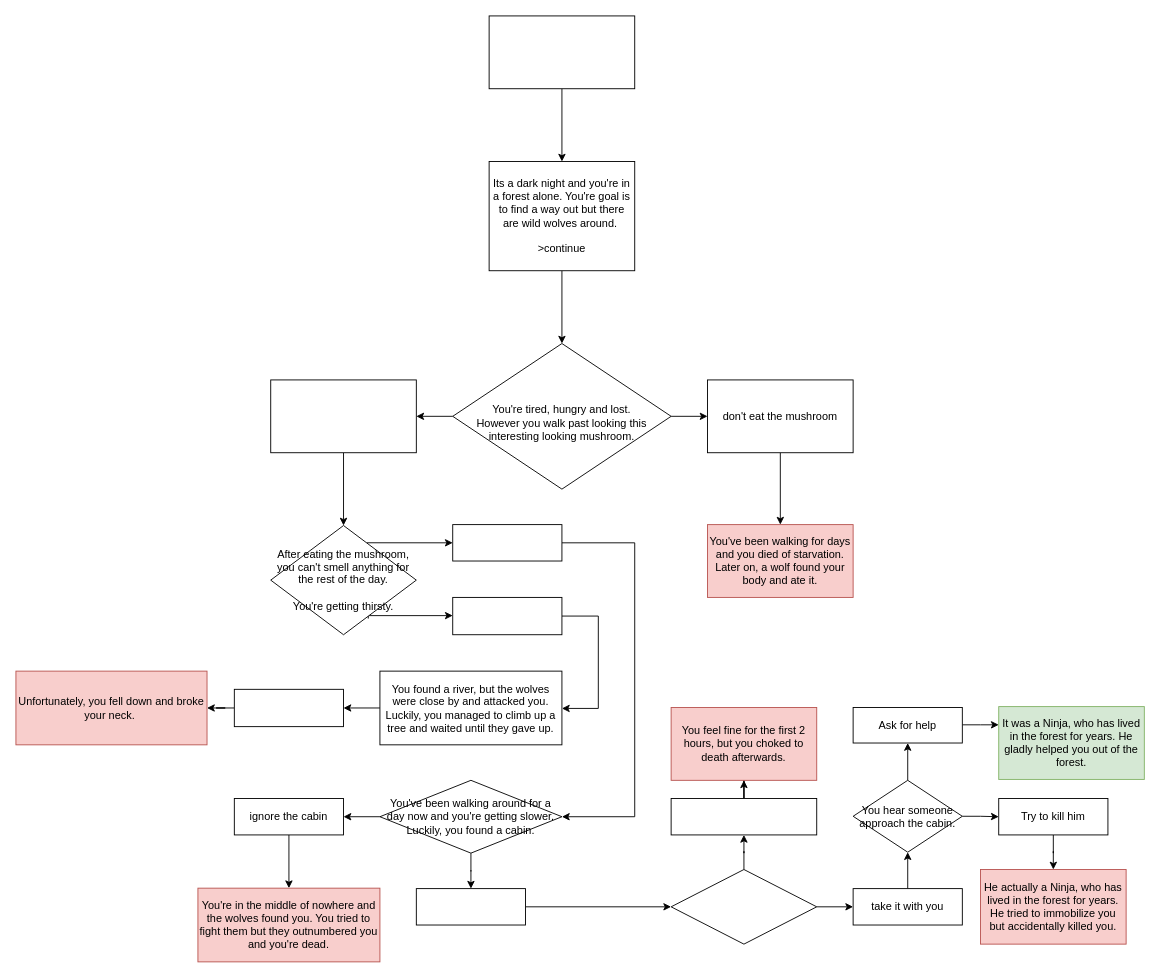
The diagram is 1160 pixels wide and 978 high, and some of its shapes have lost their labels. Each missing label, with the centre of its shape:
climb down: (x=288, y=707)
drink the bottle of liquid: (x=743, y=816)
eat the mushroom: (x=343, y=416)
go in the cabin: (x=470, y=906)
ignore your thirst: (x=507, y=542)
look for a river: (x=507, y=616)
Menu: (x=561, y=52)
You're look around the cabin and find a bottle of liquid, which is glowing.: (x=743, y=906)
